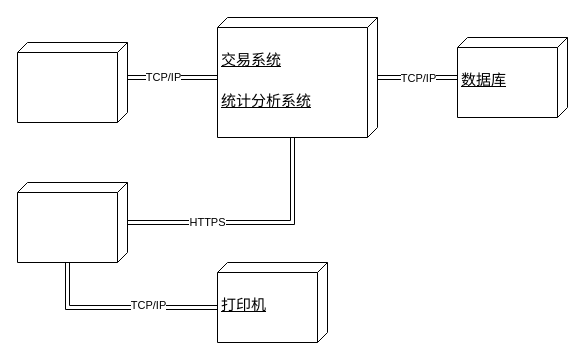
Image size: 585x360. Some labels were removed from this diagram. Here are the shapes that lost their labels. From the top down, the centre of each, then its label:
At point 72,82: "收款机".
At point 72,222: "PC电脑".
